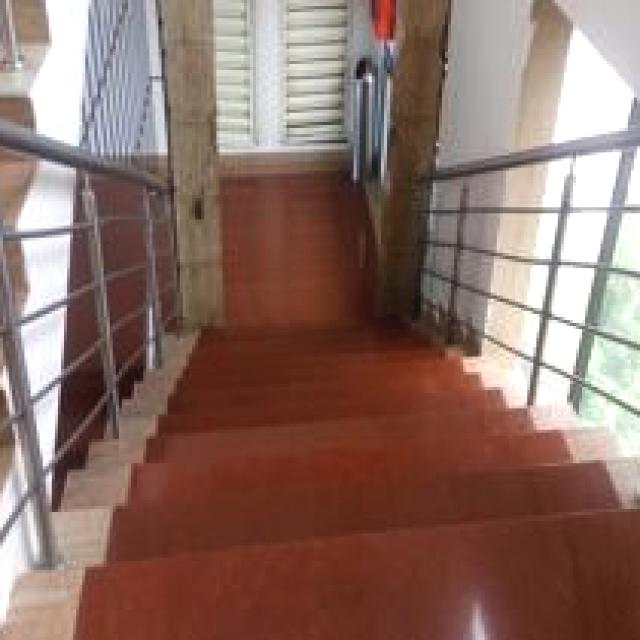downstair: (68, 410, 604, 605)
